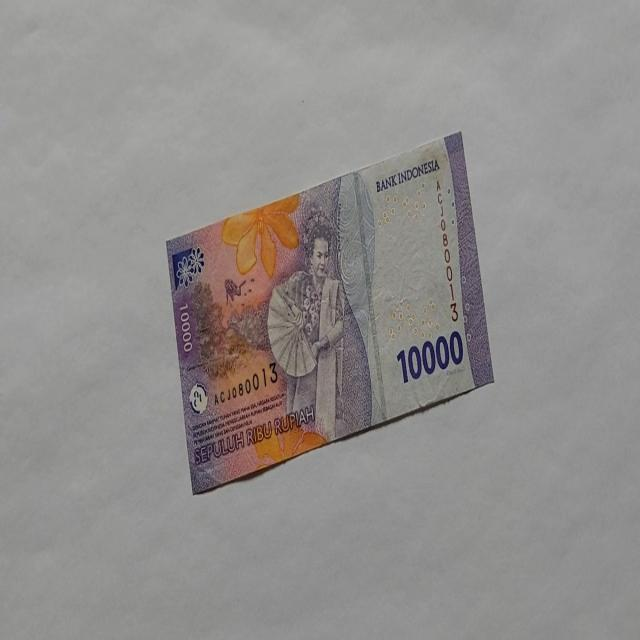sepuluh ribu rupiah: (164, 129, 494, 495)
